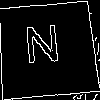N: (22, 24, 63, 73)
